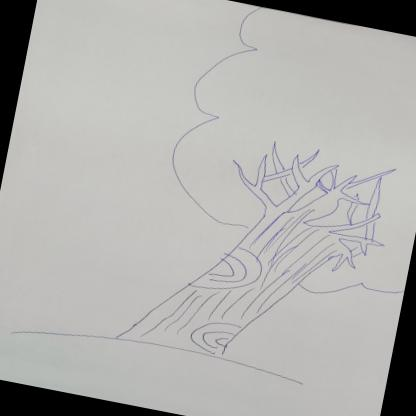branch_sharp: (216, 134, 400, 280)
crown_cloud: (152, 0, 416, 307)
knot: (189, 240, 266, 300), (189, 317, 241, 359)
root_none: (88, 315, 252, 394)
trunk_bark: (131, 236, 318, 358)
